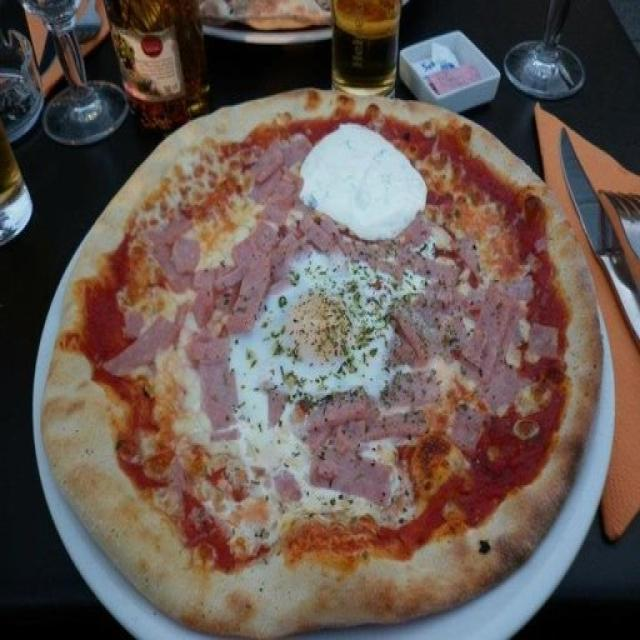Cheese: (299, 122, 427, 238), (258, 275, 382, 378)
Ham: (305, 402, 425, 502), (466, 287, 520, 402), (391, 258, 457, 350), (192, 336, 239, 438), (258, 146, 297, 256), (113, 322, 179, 369), (153, 222, 197, 290), (200, 266, 253, 322), (452, 400, 481, 450), (392, 373, 441, 400), (530, 324, 562, 361), (270, 473, 301, 502), (238, 241, 265, 271), (269, 390, 285, 424), (168, 469, 192, 491)
Pizza: (40, 88, 599, 640)
